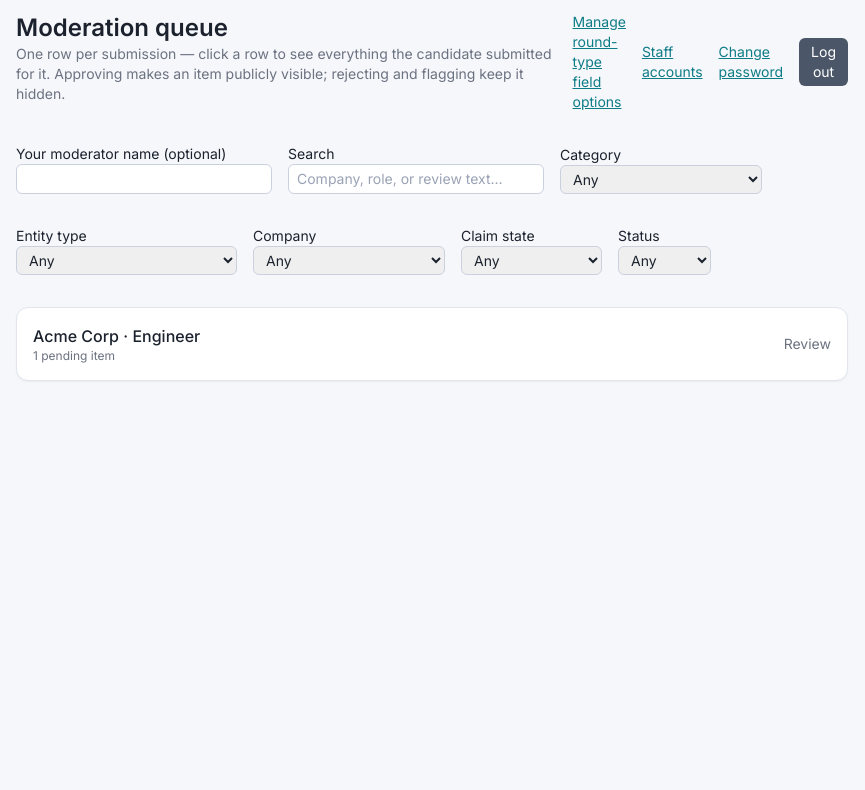
Test case: ModerationPage (Phase 14 issue #128; session gating Phase 18 issue #160; grouped-by-submission Phase 29 issue #315) › expanding a resubmitted entry shows its prior decision, reason, note, and reviewer
The image size is (865, 790).
Click the button "Acme Corp · Engineer 1 pending item Review" at (76, 336), box [33,324,831,364]
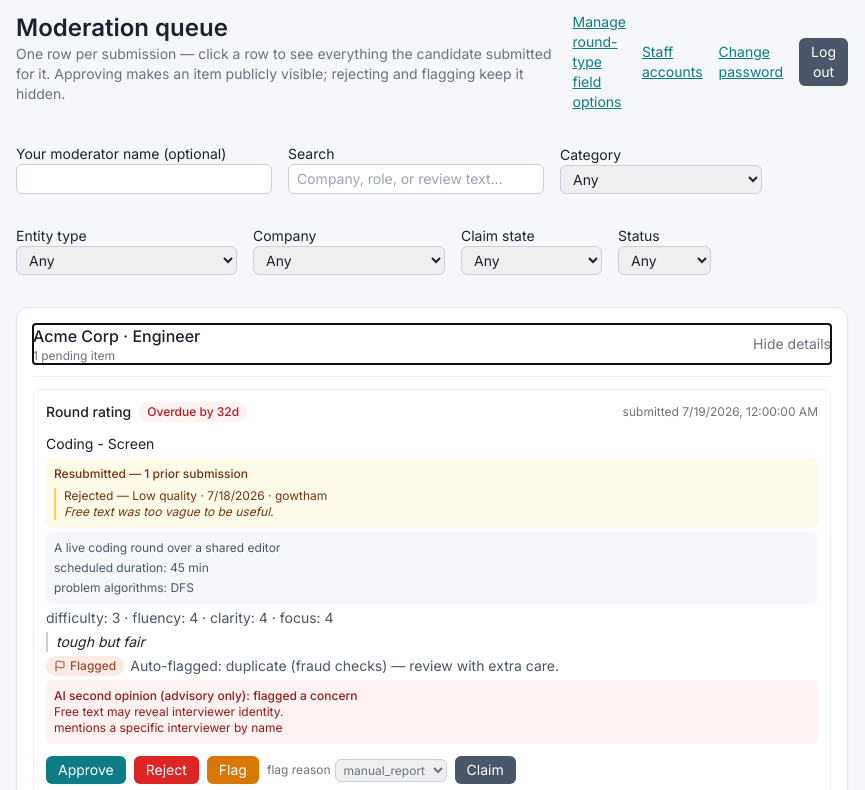
Expected: the text "Resubmitted — 1 prior submission" is shown, [54,466,248,481]
Expected: the text "Rejected — Low quality · 7/18/2026 · gowtham" is shown, [64,488,327,503]
Expected: the text "Free text was too vague to be useful." is shown, [64,504,274,519]
